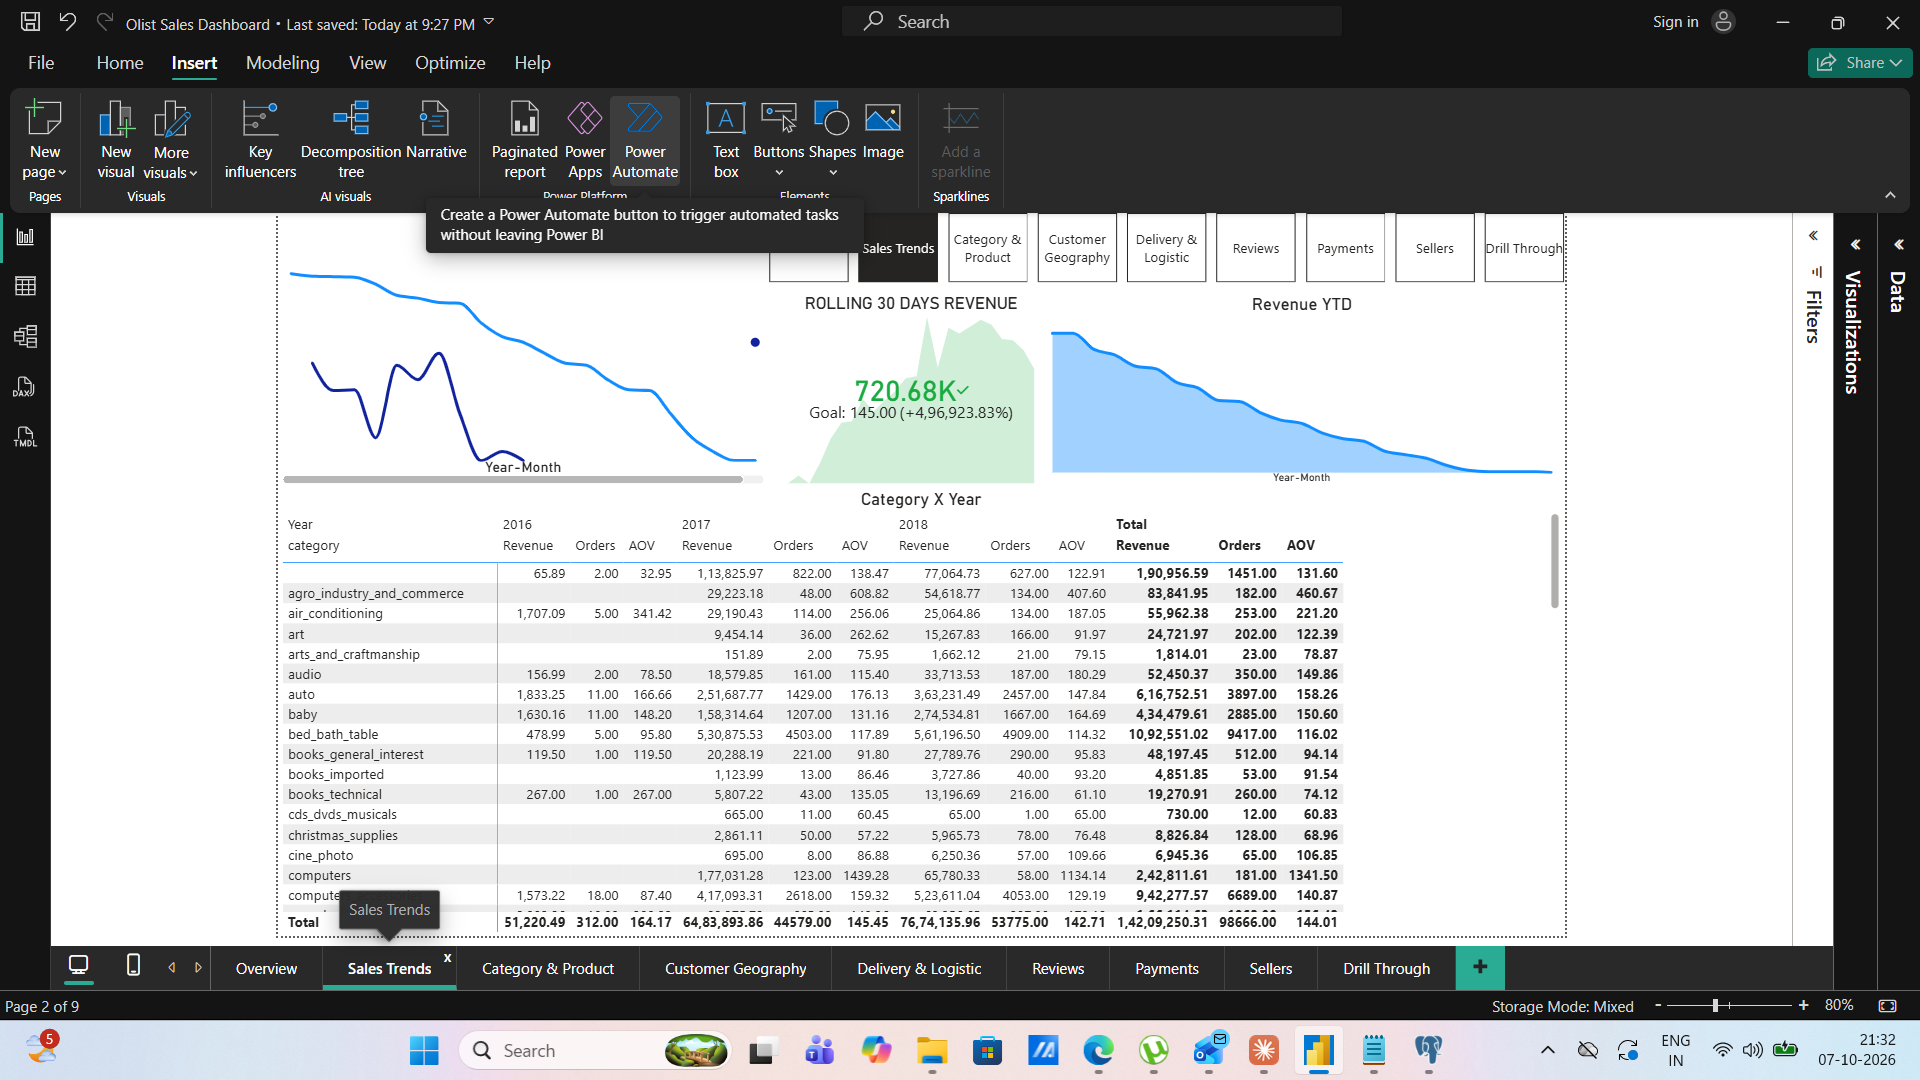

The page's visual inventory and layout, read from the dashboard file:
{"tool":"powerbi","page":{"name":"Sales Trends","canvas":[1280,720],"ordinal":1},"visuals":[{"type":"lineChart","title":"Revenue VS last year","fields":{"Category":["DimDate.Year-Month"],"Y":["public bi_fact_sales.Revenue","public bi_fact_sales.Revenue LY"]},"box":[0,0,488.5,274.4],"z":0},{"type":"kpi","title":"ROLLING 30 DAYS REVENUE","fields":{"Indicator":["public bi_fact_sales.Rolling 30D Revenue"],"Goal":["public bi_fact_sales.Revenue"],"TrendLine":["DimDate.Year-Month"]},"box":[502.2,79.6,255.2,194.9],"z":1000},{"type":"areaChart","title":"Revenue YTD","fields":{"Category":["DimDate.Year-Month"],"Y":["public bi_fact_sales.Revenue YTD"]},"box":[757.5,81,522.8,193.5],"z":2000},{"type":"pivotTable","title":"Category X Year","fields":{"Rows":["public bi_fact_sales.category"],"Values":["public bi_fact_sales.Revenue","public bi_fact_sales.Orders","public bi_fact_sales.AOV"],"Columns":["DimDate.Year"]},"box":[0,274.4,1280.3,446],"z":3000},{"type":"pageNavigator","box":[488.5,0,791.8,70],"z":4000}]}

Visuals, with their boxes on the page's 1280x720 design canvas (x1, y1, x2, y2). These are canvas units, not pixel positions in the 1920x1080 screenshot, which may show the page scaled, cropped or inside an application window:
"Revenue VS last year" lineChart: {"left": 0, "top": 0, "right": 488, "bottom": 274}
"ROLLING 30 DAYS REVENUE" kpi: {"left": 502, "top": 80, "right": 757, "bottom": 274}
"Revenue YTD" areaChart: {"left": 758, "top": 81, "right": 1280, "bottom": 274}
"Category X Year" pivotTable: {"left": 0, "top": 274, "right": 1280, "bottom": 720}
pageNavigator: {"left": 488, "top": 0, "right": 1280, "bottom": 70}
